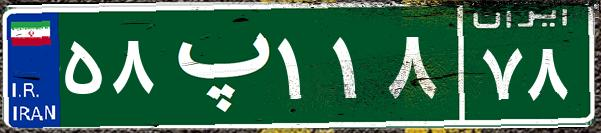1: (273, 28, 330, 110), (330, 28, 385, 110)
5: (57, 26, 110, 107)
7: (475, 38, 525, 113)
8: (385, 28, 445, 110), (110, 28, 158, 105), (525, 38, 570, 115)
پ: (158, 15, 273, 115)
